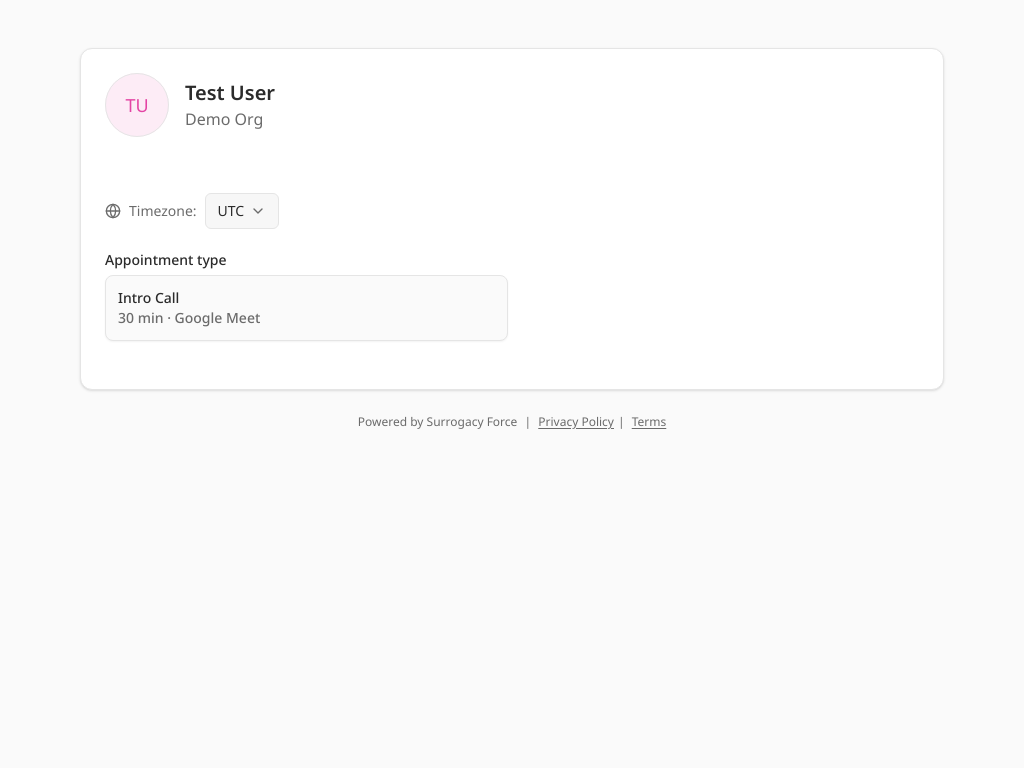
Test case: Appointments Google Meet UI › labels public booking calendar month navigation
Step 1. Click the button "Intro Call 30 min · Google Meet" → (149, 298), box [105,275,508,341]
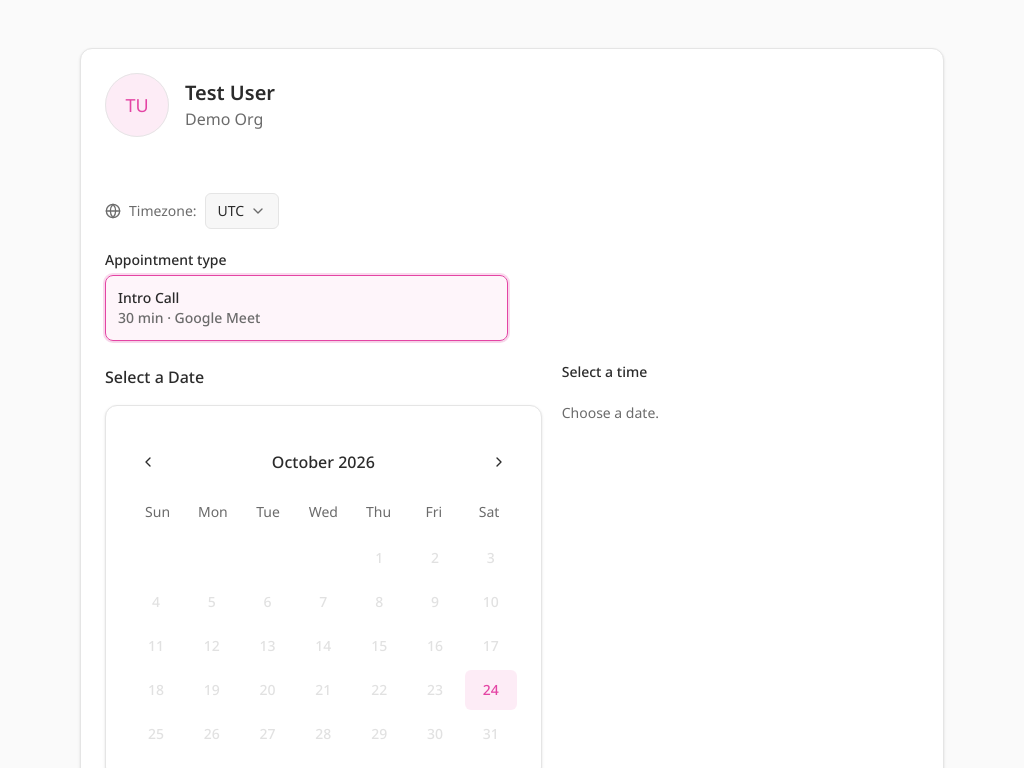
Check: the button named "Previous month" is shown, box [130,446,166,478]
Check: the button named "Next month" is shown, box [481,446,517,478]
